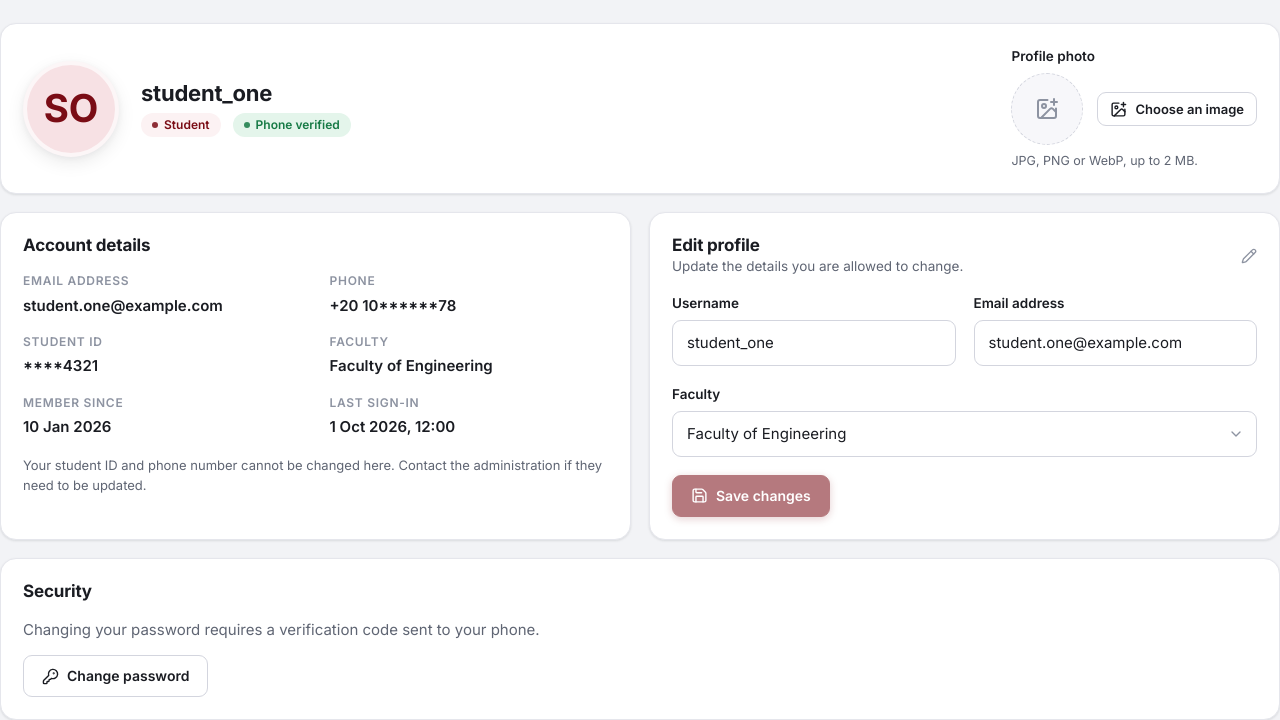
Test: Profile page › rejects a weak new password and a mismatch without contacting the server
This screenshot has width=1280, height=720.
(page scrolled)
Click the button "Change password" at coordinates (116, 676), box [23, 655, 208, 697]
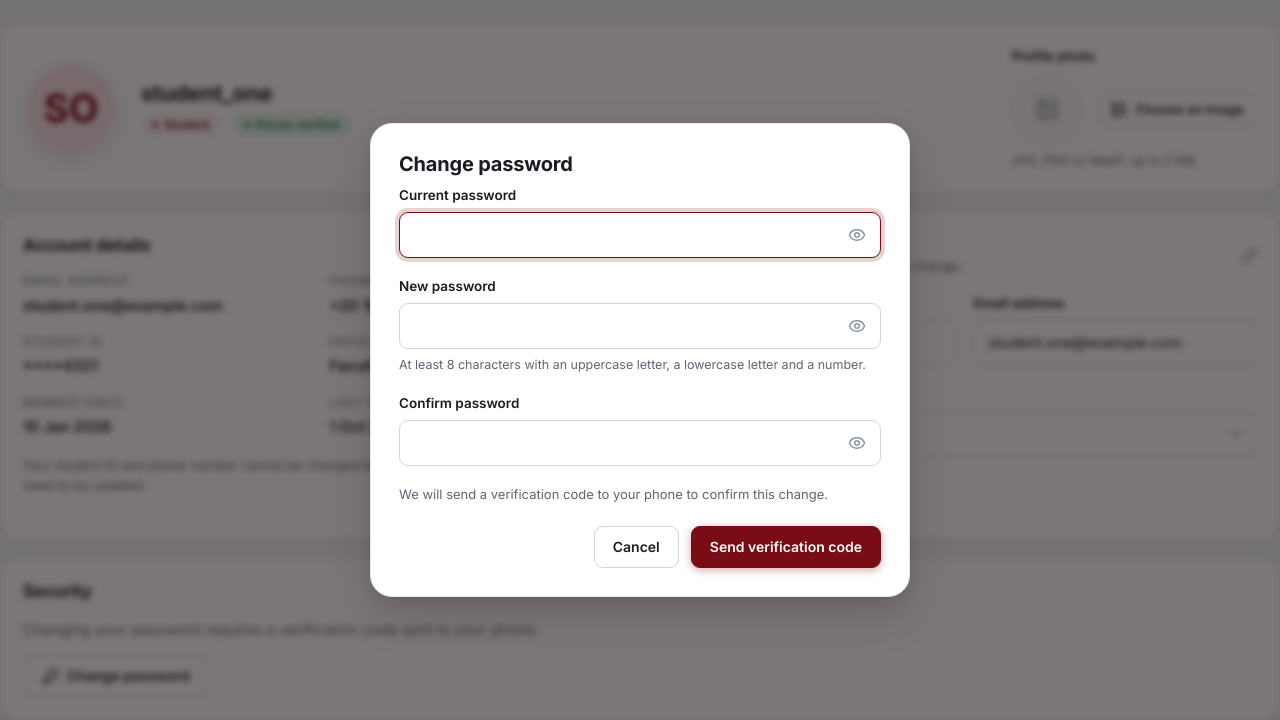
Type "OldPassw0rd" into the password field labelled "Current password" at coordinates (640, 235), box [399, 212, 881, 258]
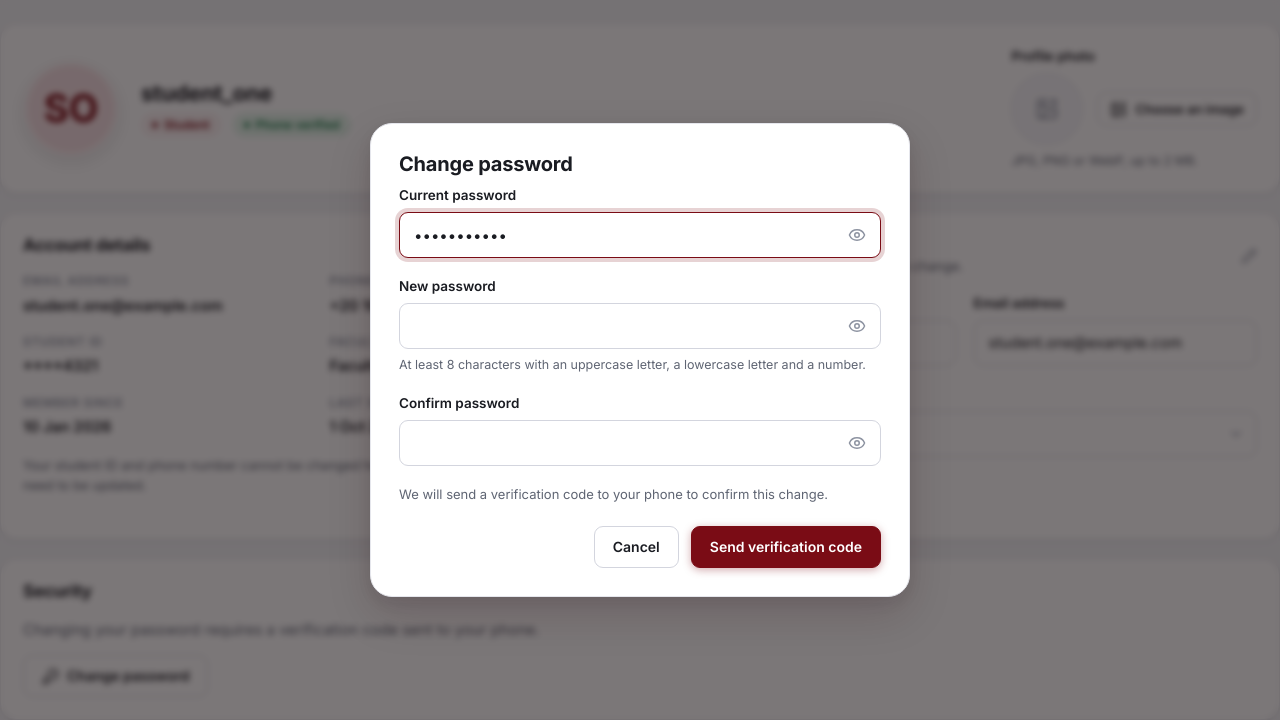
Type "weak" into the password field labelled "New password" at coordinates (640, 326), box [399, 303, 881, 349]
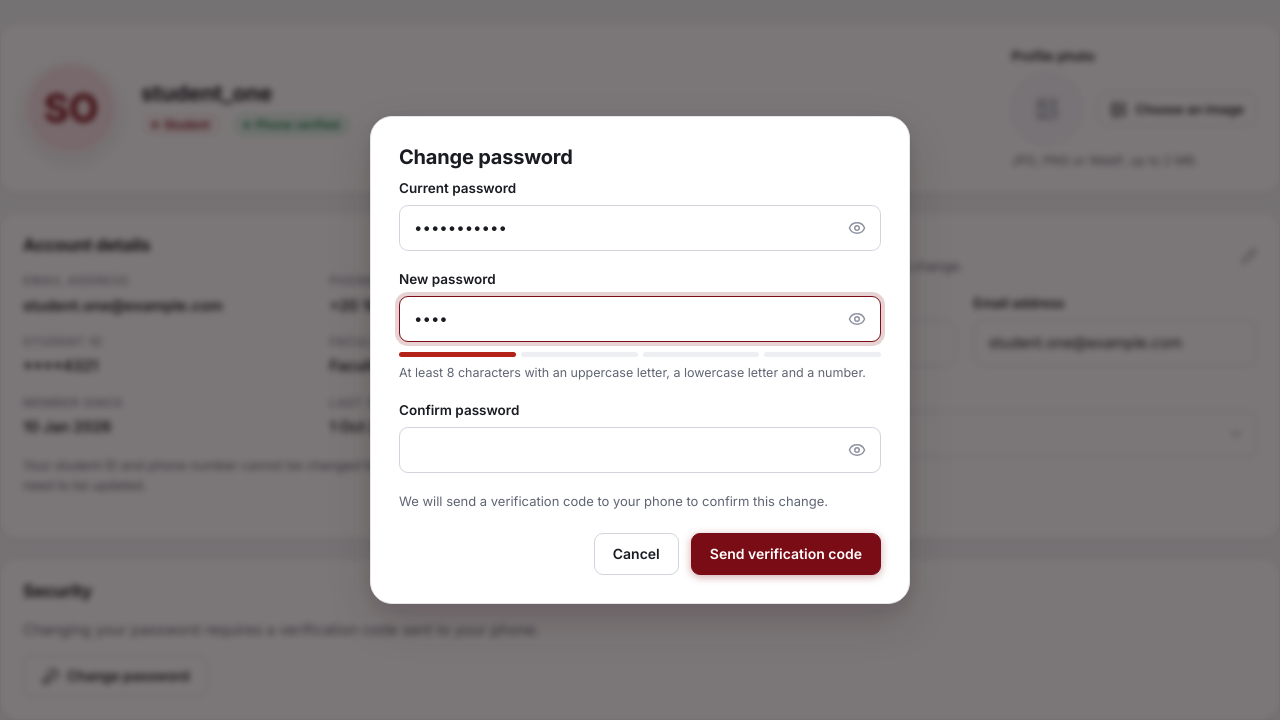
Type "other" into the password field labelled "Confirm password" at coordinates (640, 450), box [399, 427, 881, 473]
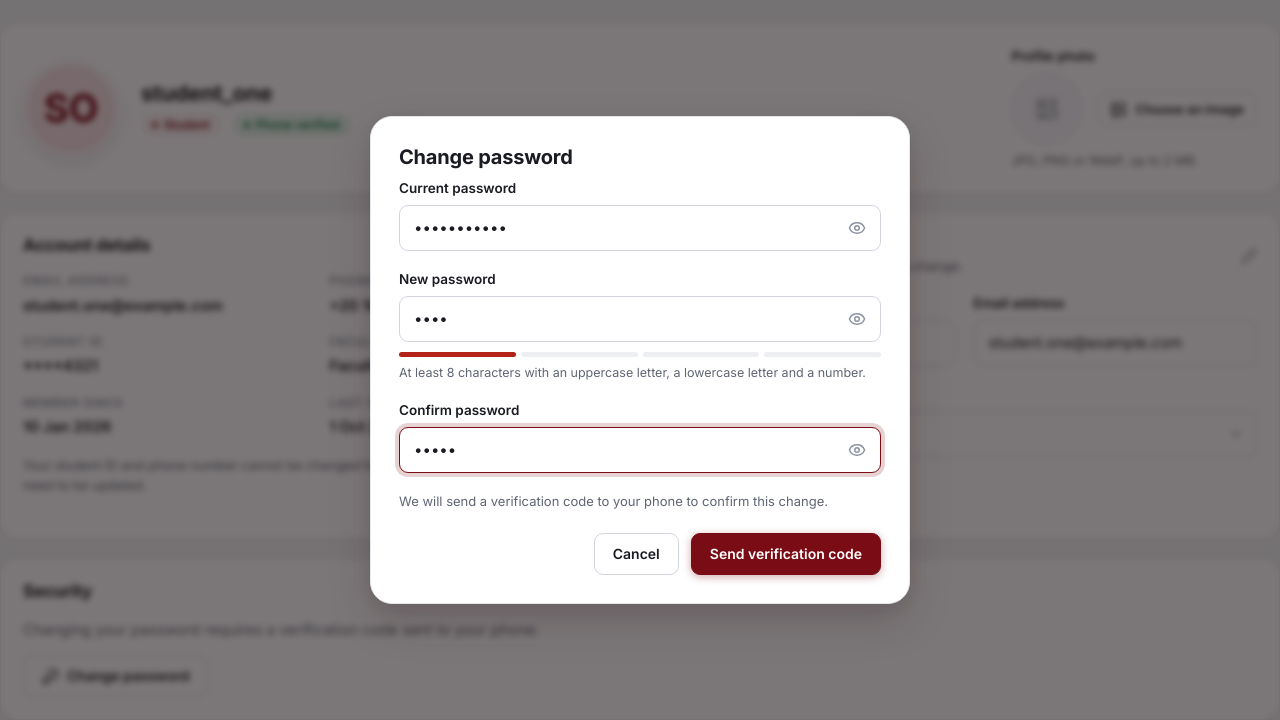
Click the button "Send verification code" at coordinates (786, 554), box [691, 533, 881, 575]
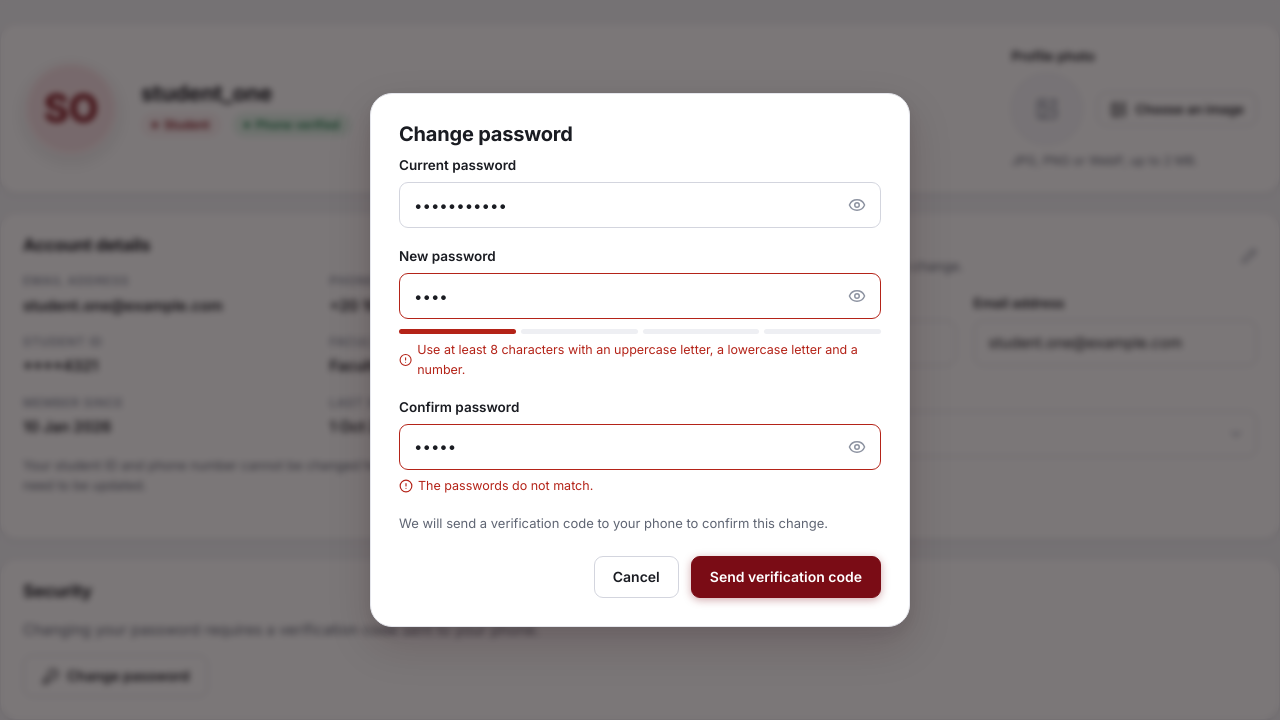
Check: the text "Use at least 8 characters" is shown, box [417, 342, 858, 377]
Check: the text "The passwords do not match." is shown, box [399, 478, 593, 493]
